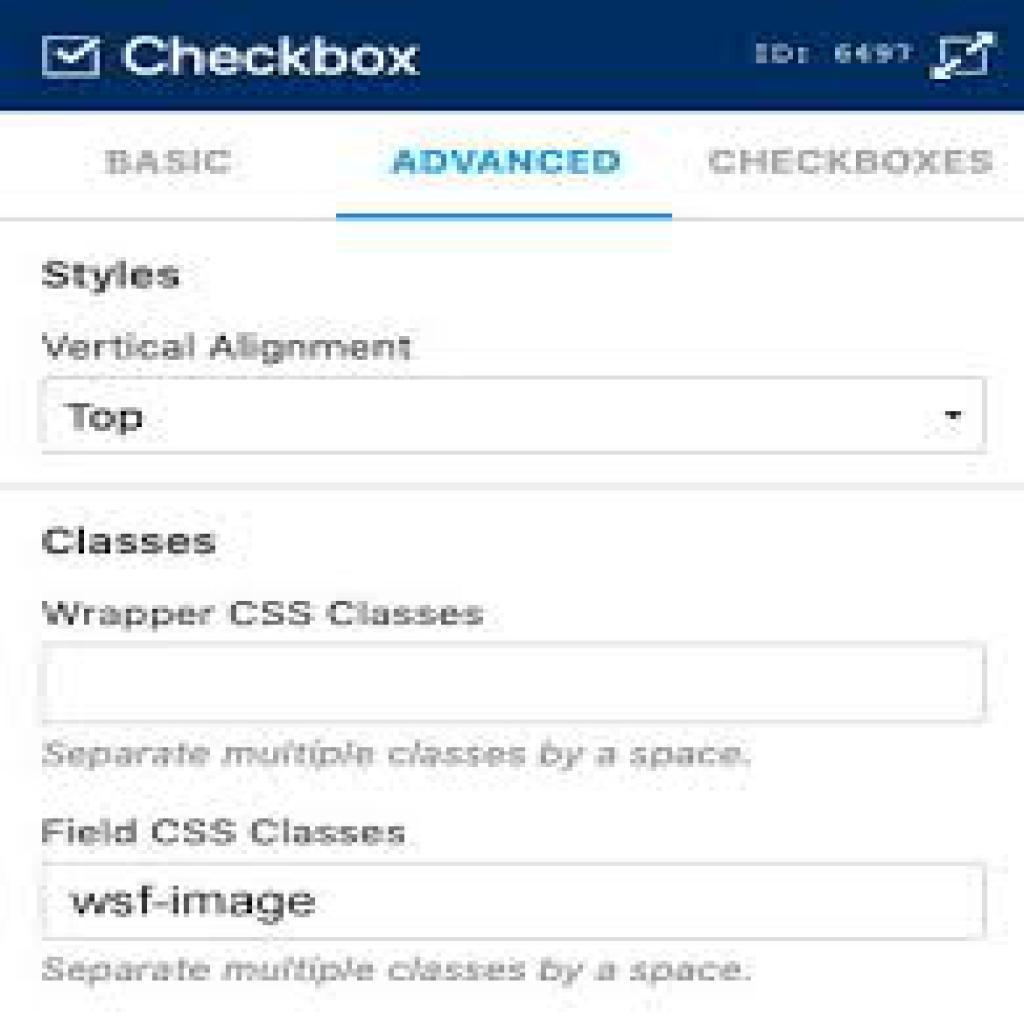checkbox: (40, 34, 106, 83)
dropdown: (36, 382, 987, 449)
icon: (928, 28, 998, 85)
input: (40, 641, 987, 727), (42, 862, 990, 936)
